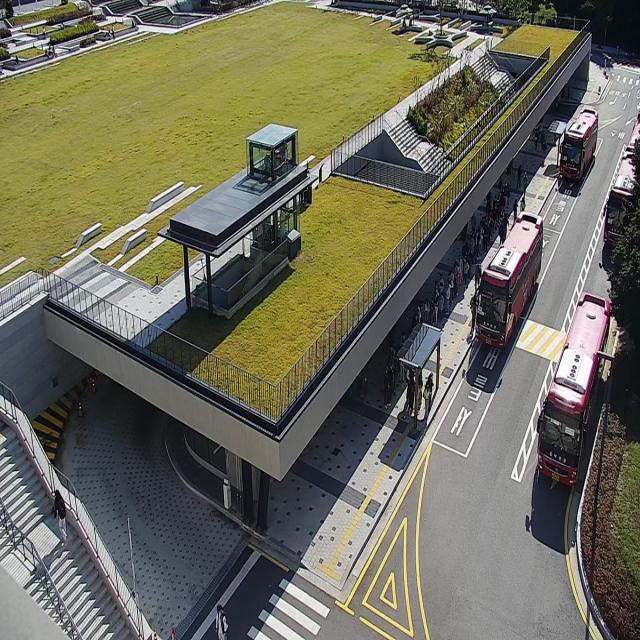queue: (412, 175, 512, 435)
